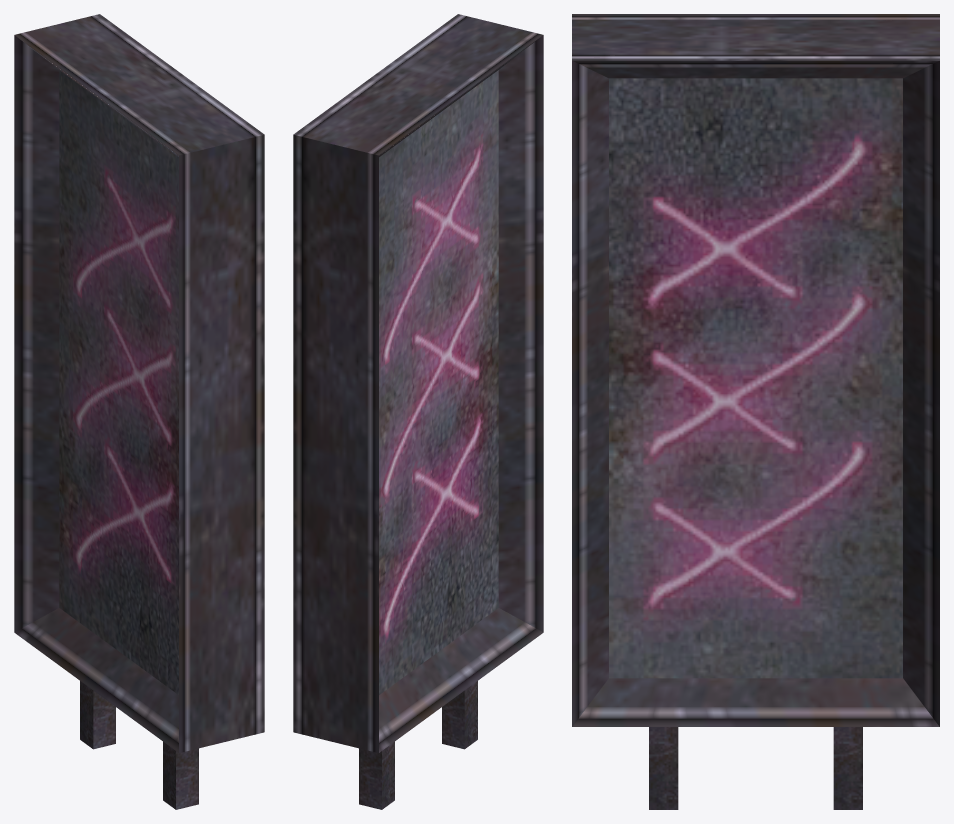
Rendered from neonxxx1.fbx.
3 views of the same model, side by side, from view 1: azimuth 30°, elevation 25°; view 2: azimuth 150°, elevation 25°; view 3: azimuth 270°, elevation 25° (orthographic). The views are drawn at different scales.
Parts seen in each view (by area): view 1: mesh_0; view 2: mesh_0; view 3: mesh_0.
Boxes of the visible parts, box(x1,y1,x2,y2) form: mesh_0: box(14, 14, 264, 809); mesh_0: box(293, 14, 543, 809); mesh_0: box(572, 14, 939, 809).
Size of the model in its own units: 30 by 230 by 100.
Materials: 1 (1 with a texture image).
